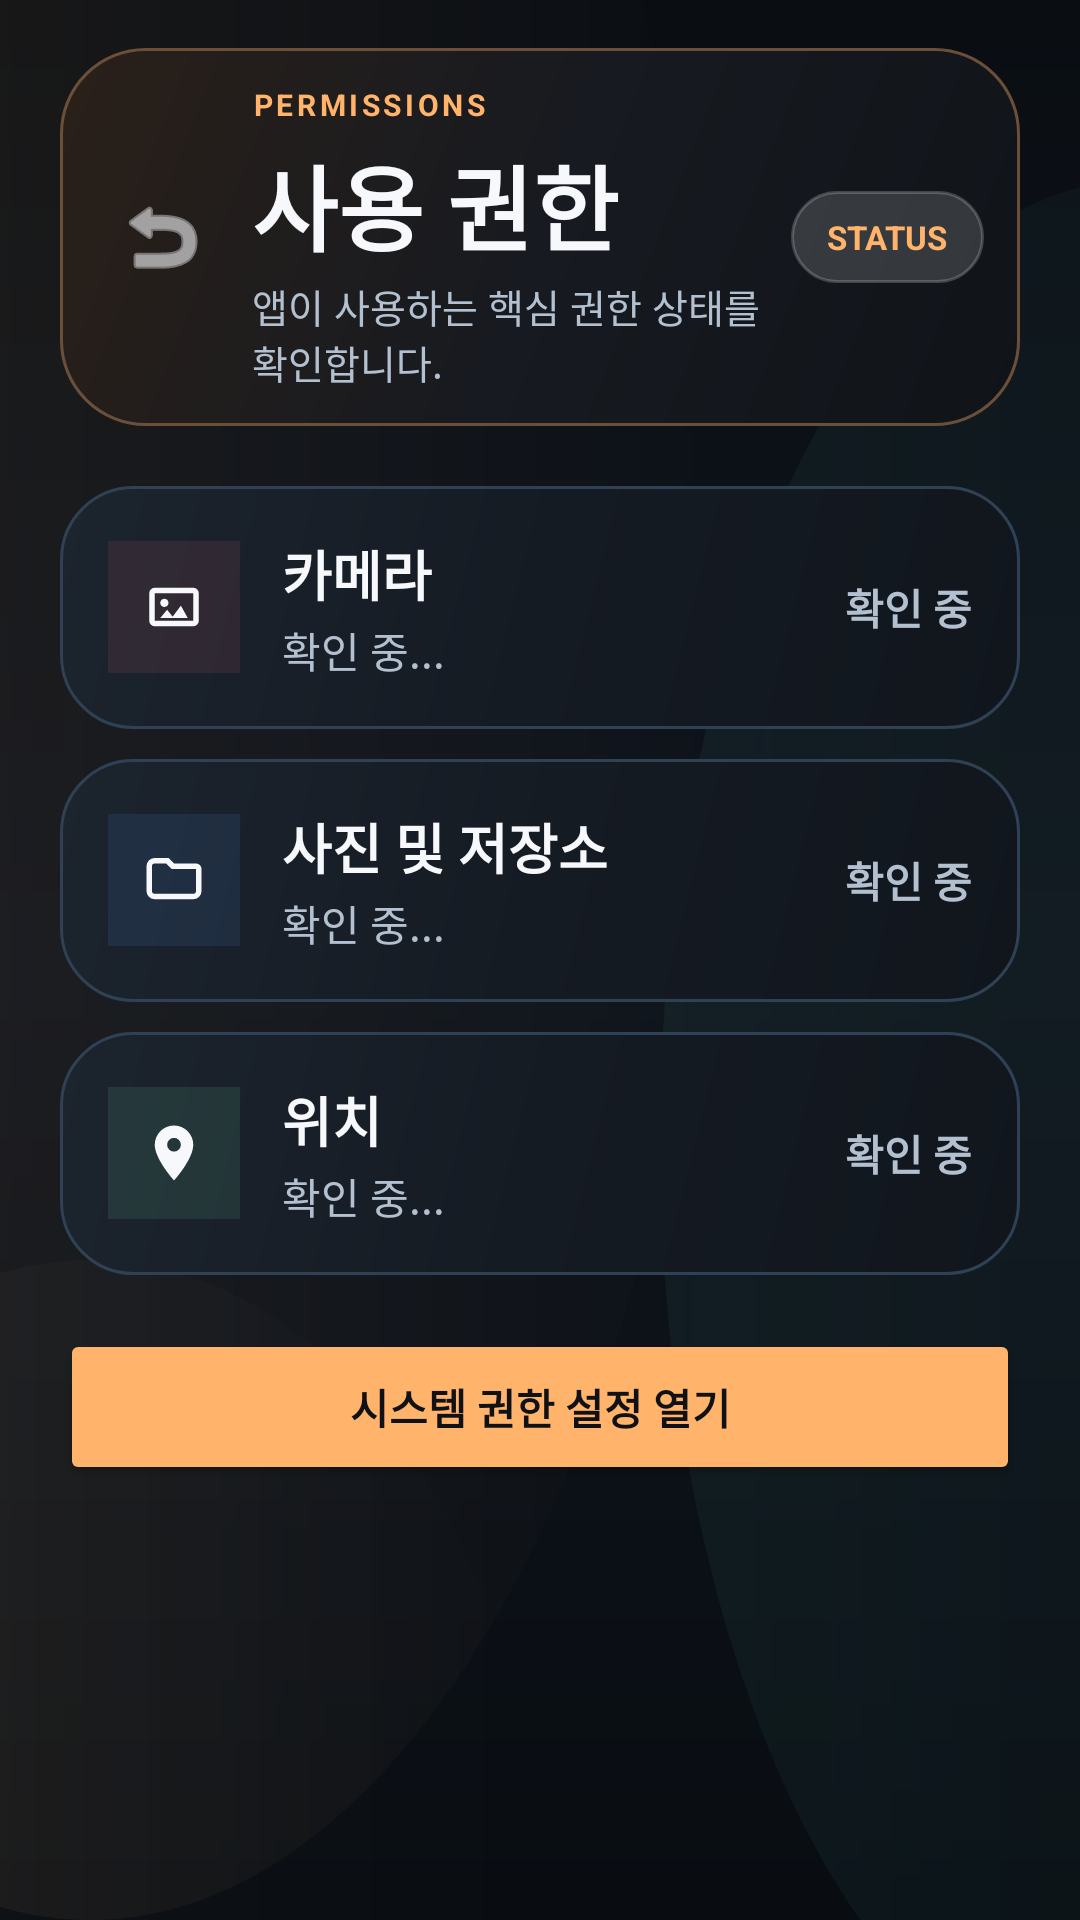

Point at icon controls on the screen. Image size 1080x1920, points as (x,y).
folder: (174,879)
location: (174,1152)
revert: (163,237)
